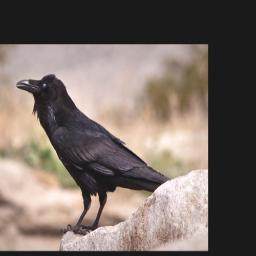Crow: (14, 69, 173, 232)
